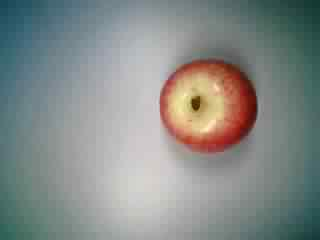apple: (157, 55, 263, 154)
